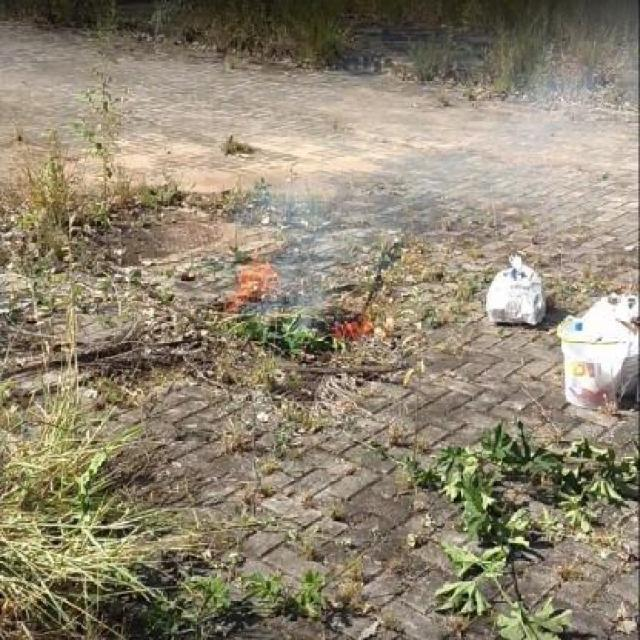Fire: (224, 243, 284, 314), (332, 314, 379, 337)
